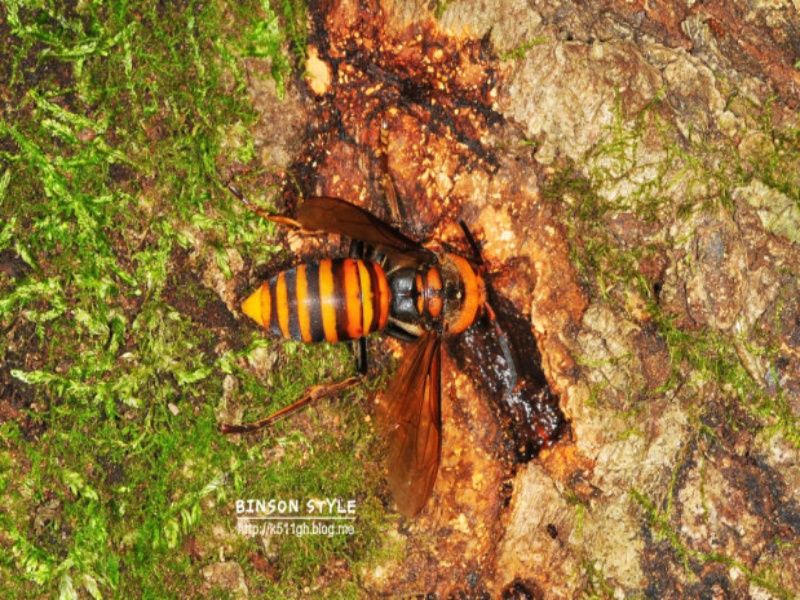asian_giant_hornet: (237, 218, 503, 386)
